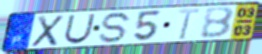5: (134, 9, 164, 42)
B: (199, 6, 236, 39)
S: (98, 11, 134, 45)
T: (177, 8, 202, 41)
U: (62, 13, 97, 45)
X: (30, 14, 66, 48)
